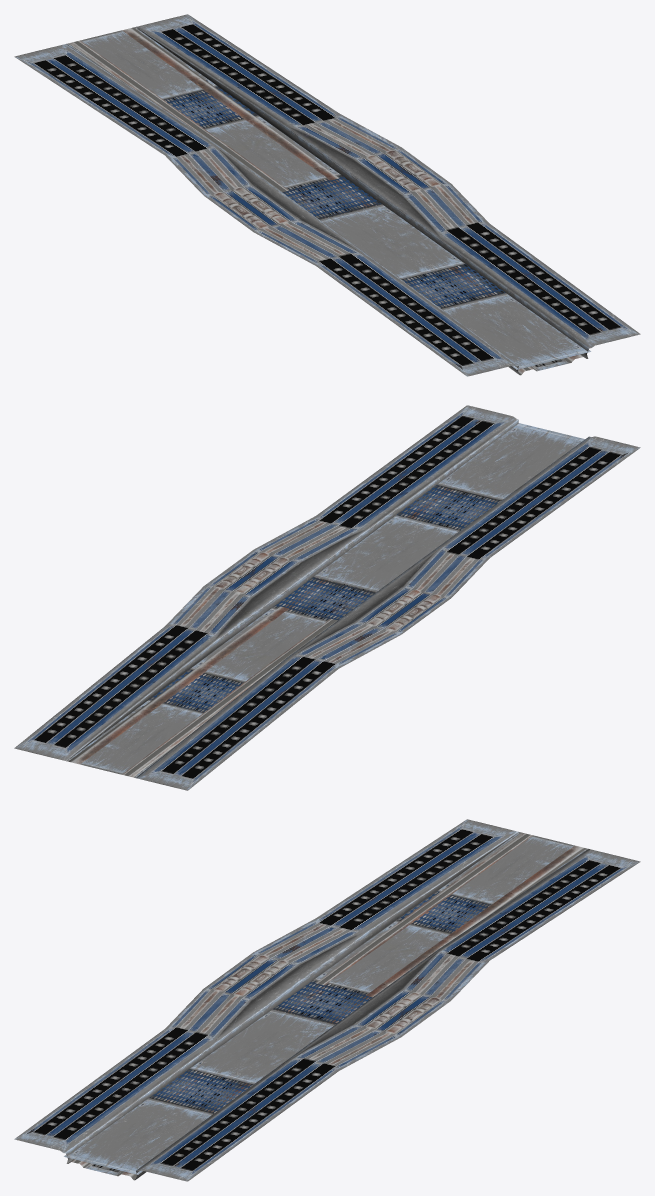
Rendered from floor02.obj.
3 views of the same model, one above another, from view 1: azimuth 30°, elevation 25°; view 2: azimuth 150°, elevation 25°; view 3: azimuth 330°, elevation 25° (orthographic).
Visible parts, largest first — view 1: polySurface1204; view 2: polySurface1204; view 3: polySurface1204.
Boxes of the visible parts, x1,y1,x2,y2 form: polySurface1204: (14, 14, 640, 376); polySurface1204: (14, 405, 640, 790); polySurface1204: (14, 819, 640, 1181).
Bounding box in the file's own units: 35.67 × 2.18 × 141.
Materials: 1 (1 with a texture image).
